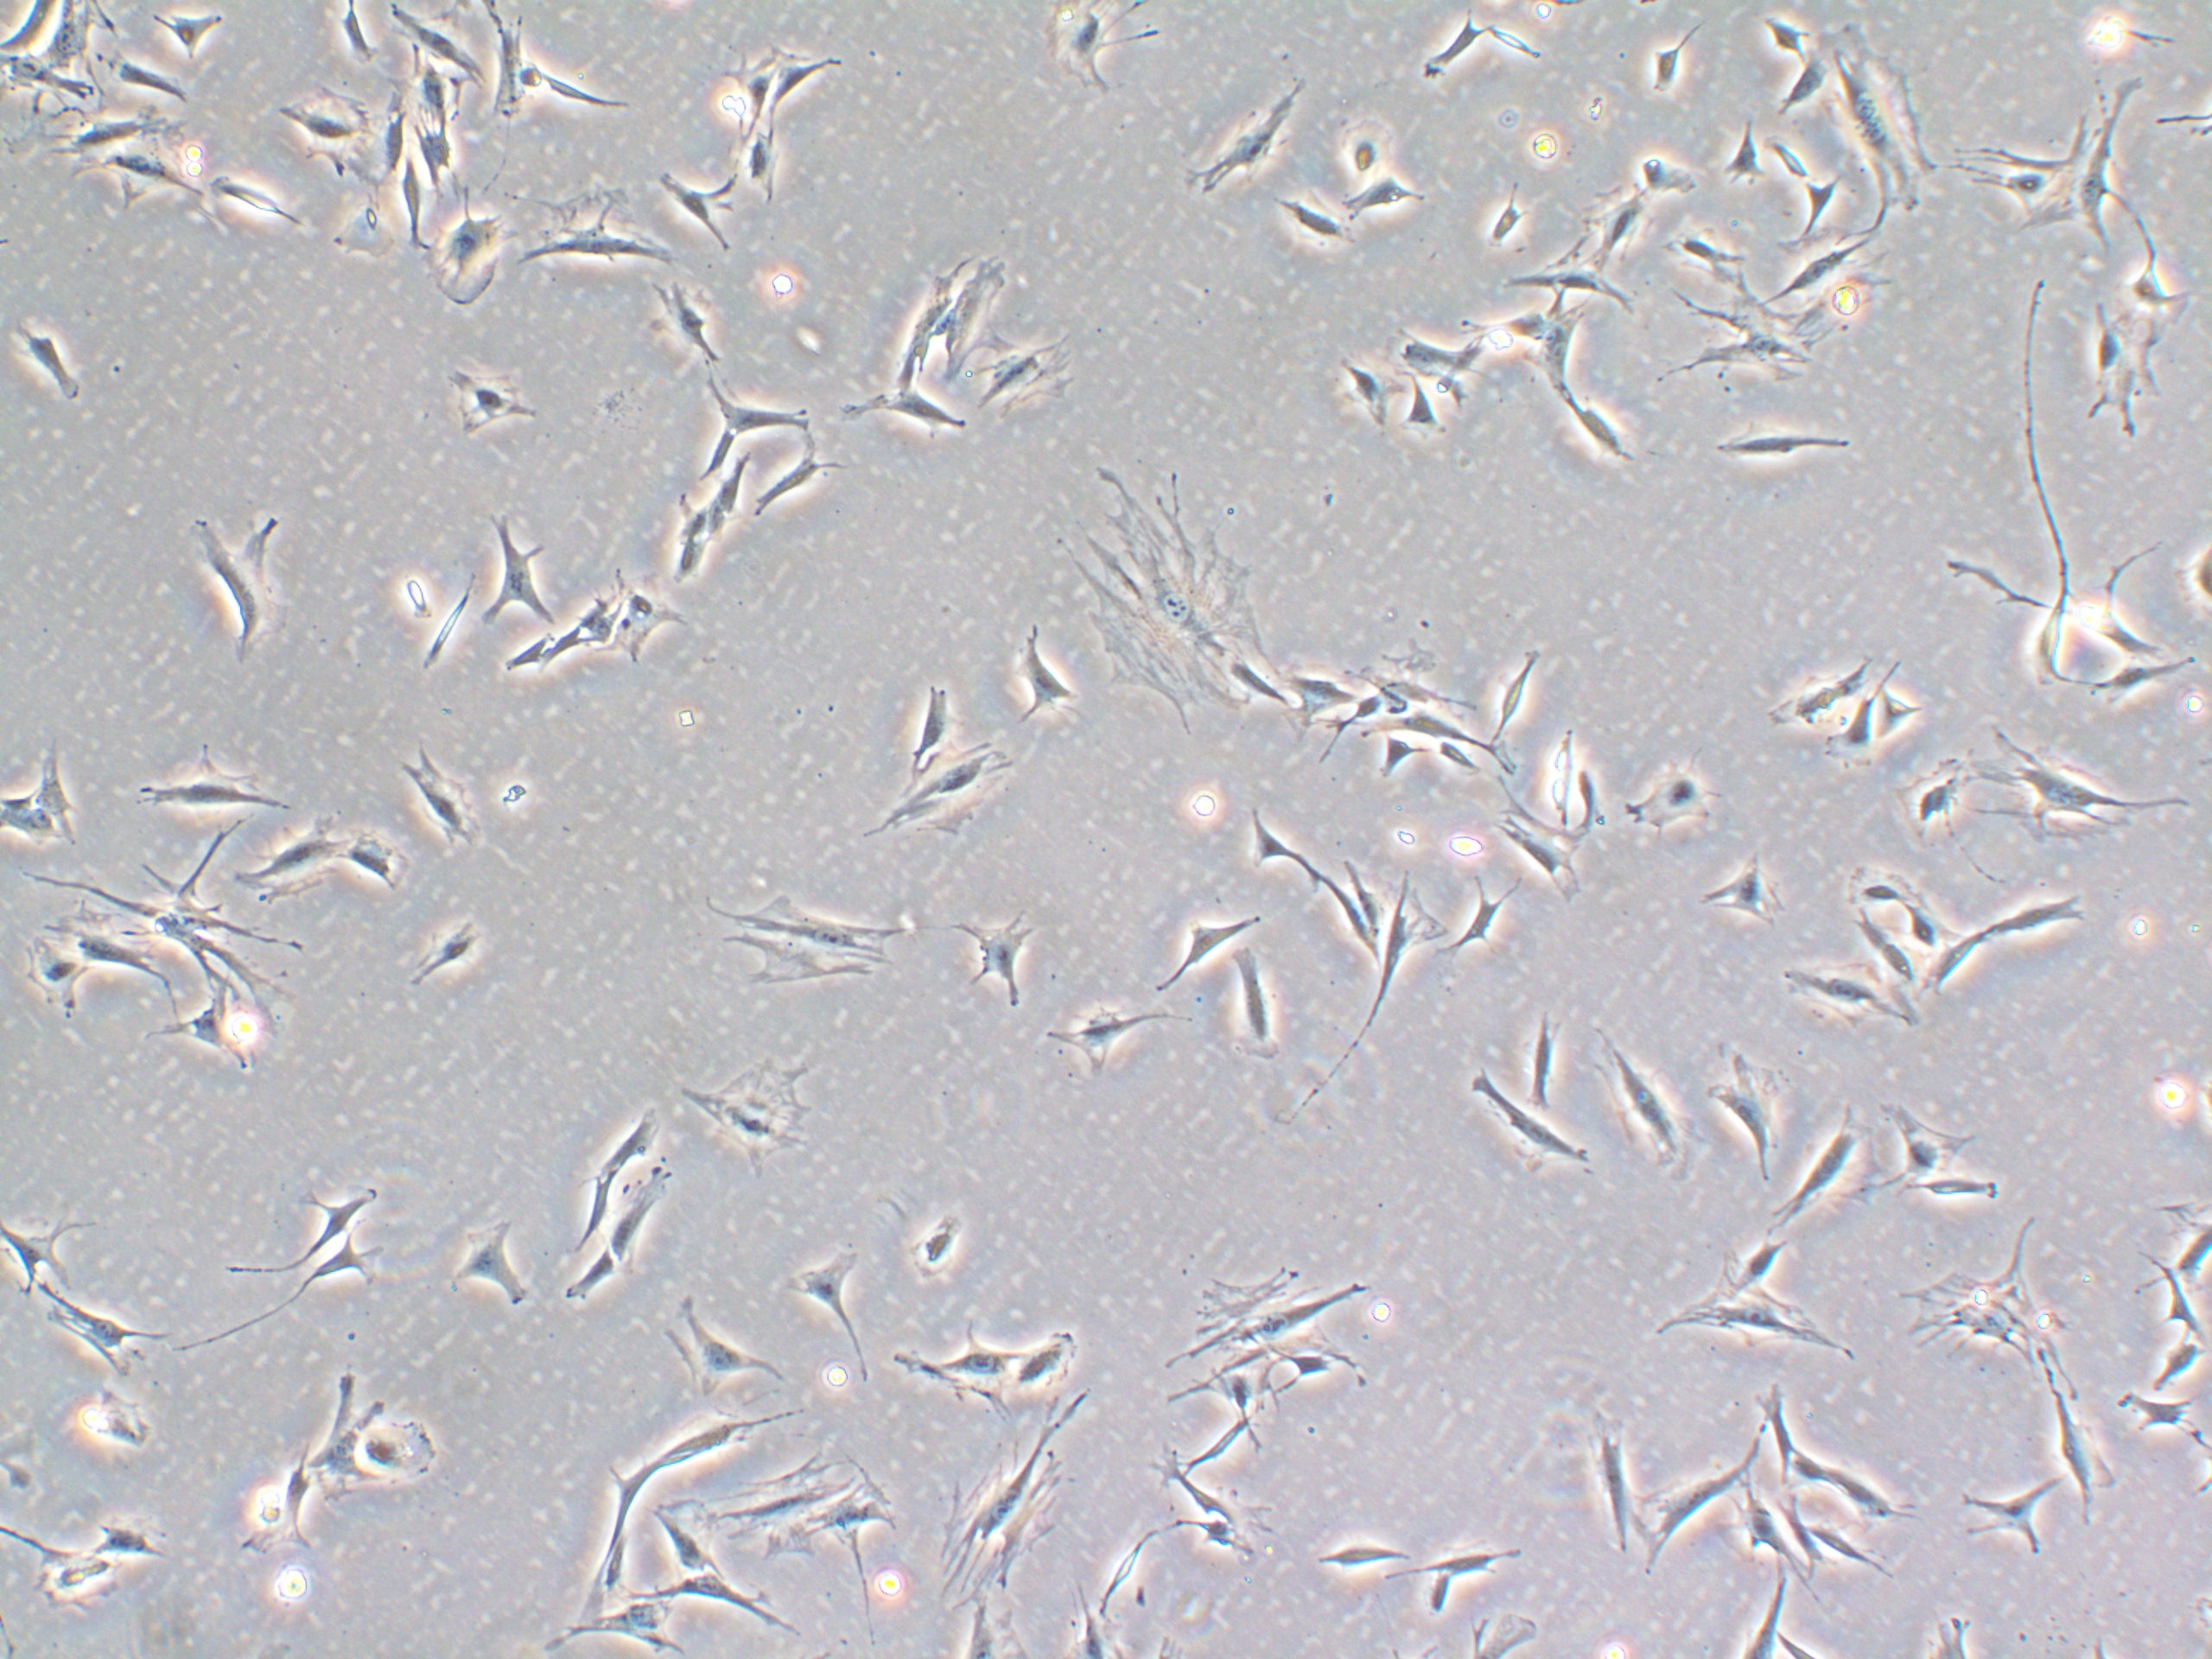Etc: (202, 169, 310, 246), (1487, 14, 1557, 73), (1432, 739, 1487, 775)
polygonal: (1313, 871, 1451, 1105), (183, 1236, 408, 1366), (176, 498, 303, 683), (1580, 1009, 1709, 1187), (1630, 1436, 1759, 1598), (1174, 63, 1322, 202), (1447, 1058, 1592, 1187), (221, 1180, 388, 1283), (643, 1281, 789, 1398), (775, 1241, 883, 1389), (1484, 227, 1644, 326), (1035, 992, 1197, 1089), (1698, 1025, 1791, 1195), (1763, 1103, 1883, 1234), (45, 897, 181, 1012), (442, 1199, 550, 1338), (880, 1333, 1031, 1429), (1770, 951, 1928, 1042), (505, 192, 688, 270), (1141, 897, 1282, 999), (639, 1398, 819, 1476), (1569, 1382, 1646, 1565), (30, 1272, 164, 1377), (627, 1574, 815, 1647), (1498, 786, 1599, 922), (380, 739, 488, 861), (1717, 1471, 1820, 1596), (143, 737, 293, 823), (1947, 1469, 2069, 1570), (1355, 708, 1527, 779), (2040, 1375, 2118, 1532), (1691, 413, 1867, 483), (230, 810, 348, 913), (465, 507, 557, 631), (1221, 786, 1322, 897), (1768, 636, 1876, 737), (831, 371, 970, 448), (1264, 186, 1376, 281), (1221, 932, 1298, 1068), (1374, 1523, 1547, 1582), (946, 908, 1035, 1021), (597, 1162, 681, 1281), (1003, 613, 1082, 739), (1569, 176, 1663, 281), (9, 310, 101, 415), (94, 138, 219, 214), (435, 361, 557, 439), (1693, 847, 1794, 939), (0, 762, 92, 861), (1313, 868, 1392, 985), (1420, 875, 1522, 964), (535, 47, 639, 134), (1756, 239, 1885, 308), (568, 1096, 664, 1188), (637, 272, 728, 369), (415, 561, 481, 694), (401, 899, 498, 988), (91, 42, 211, 113), (1263, 662, 1362, 748), (1494, 629, 1571, 739), (1883, 1100, 1970, 1195), (1648, 17, 1723, 127), (1855, 918, 1939, 1016), (749, 443, 848, 525), (1526, 296, 1604, 396), (1322, 345, 1413, 429), (702, 369, 812, 437), (1324, 171, 1439, 235), (900, 678, 974, 779), (1838, 863, 1937, 936), (1402, 9, 1493, 89), (1914, 918, 2000, 1002), (334, 810, 416, 897), (1559, 394, 1648, 474), (381, 150, 444, 263), (1341, 849, 1407, 955), (542, 1249, 632, 1324), (1829, 1462, 1923, 1534), (1716, 94, 1771, 214), (1292, 1523, 1414, 1577), (1658, 218, 1756, 284), (768, 47, 845, 127), (732, 120, 794, 218), (1388, 354, 1451, 450), (1785, 164, 1858, 246), (897, 1209, 981, 1281), (719, 40, 773, 148), (1822, 659, 1876, 767), (660, 174, 745, 240), (1993, 885, 2097, 939), (1385, 322, 1467, 387), (148, 7, 239, 61), (1775, 49, 1838, 124), (1522, 1007, 1569, 1107), (1756, 12, 1817, 70), (331, 3, 380, 73), (573, 1171, 611, 1256), (1369, 734, 1426, 789), (664, 530, 704, 598)
small-round: (380, 563, 442, 622)
spread: (1045, 469, 1296, 734), (928, 1382, 1111, 1605), (1895, 1215, 2102, 1405), (1160, 1239, 1397, 1380), (1796, 24, 1954, 232), (1622, 1255, 1872, 1373), (711, 890, 916, 1016), (1986, 727, 2182, 856), (848, 732, 1015, 849), (678, 1046, 822, 1175), (712, 1450, 852, 1567), (1672, 281, 1818, 380), (970, 324, 1099, 430), (266, 80, 378, 185)
